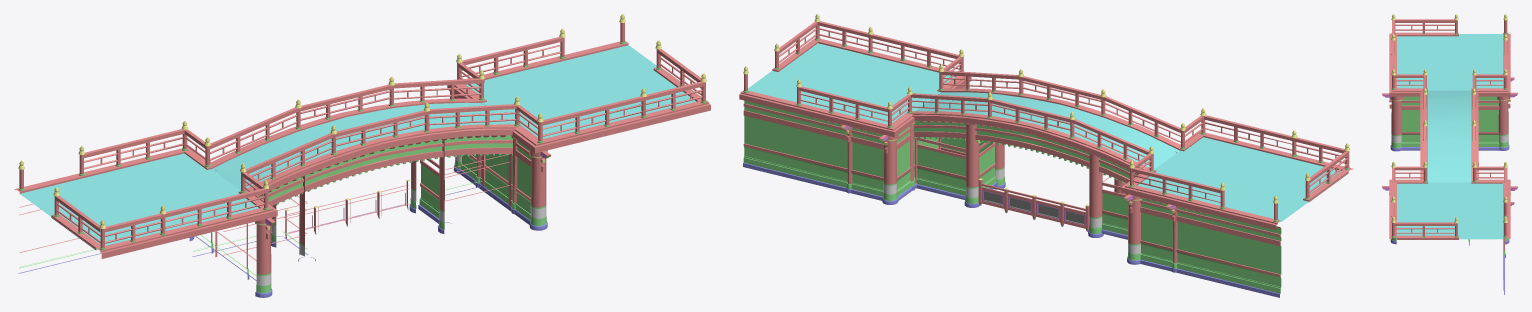
File: SM_ENV_LKNVLD_WallSet_Bridge_Lod1.gltf
3 views of the same model, side by side, from view 1: azimuth 30°, elevation 25°; view 2: azimuth 150°, elevation 25°; view 3: azimuth 270°, elevation 25° (orthographic). The views are drawn at different scales.
Visible parts, largest first — view 1: SM_ENV_LKNVLD_WallSet_Bridge_Lod1; view 2: SM_ENV_LKNVLD_WallSet_Bridge_Lod1; view 3: SM_ENV_LKNVLD_WallSet_Bridge_Lod1.
Part boxes in pixels (x1,y1,x2,y2): SM_ENV_LKNVLD_WallSet_Bridge_Lod1: (14,14,710,297); SM_ENV_LKNVLD_WallSet_Bridge_Lod1: (739,14,1353,297); SM_ENV_LKNVLD_WallSet_Bridge_Lod1: (1382,14,1517,294).
Bounding box in the file's own units: 44.9 × 9.57 × 12.56.
